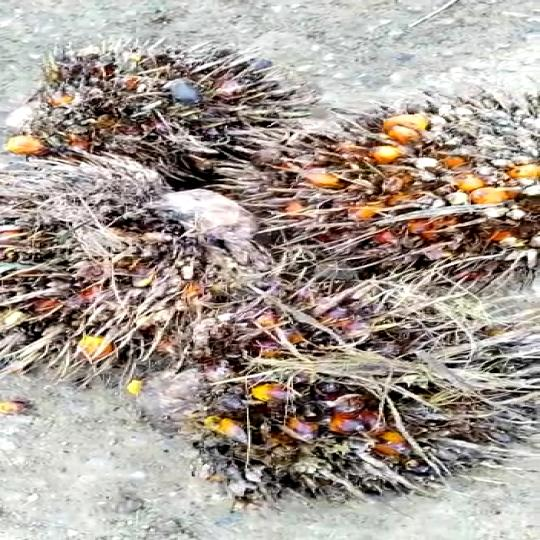terlalu masak: (184, 268, 540, 494), (0, 154, 307, 369), (204, 102, 540, 272), (0, 47, 284, 170)
